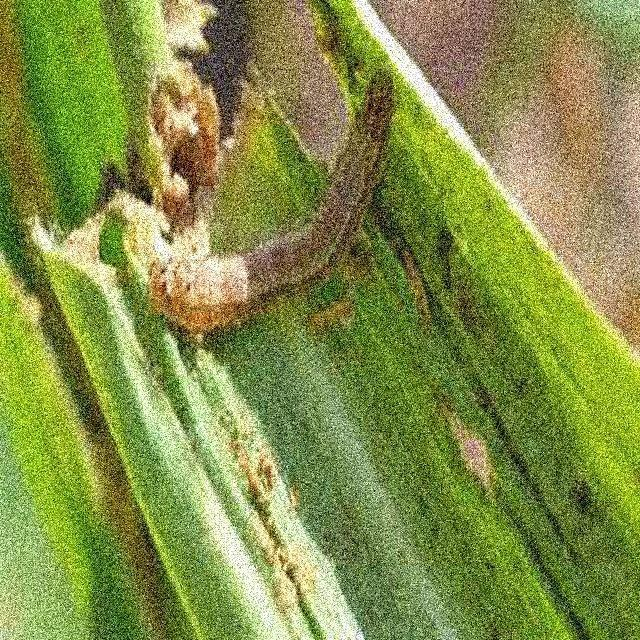gusano_cogollero: (143, 64, 400, 334)
